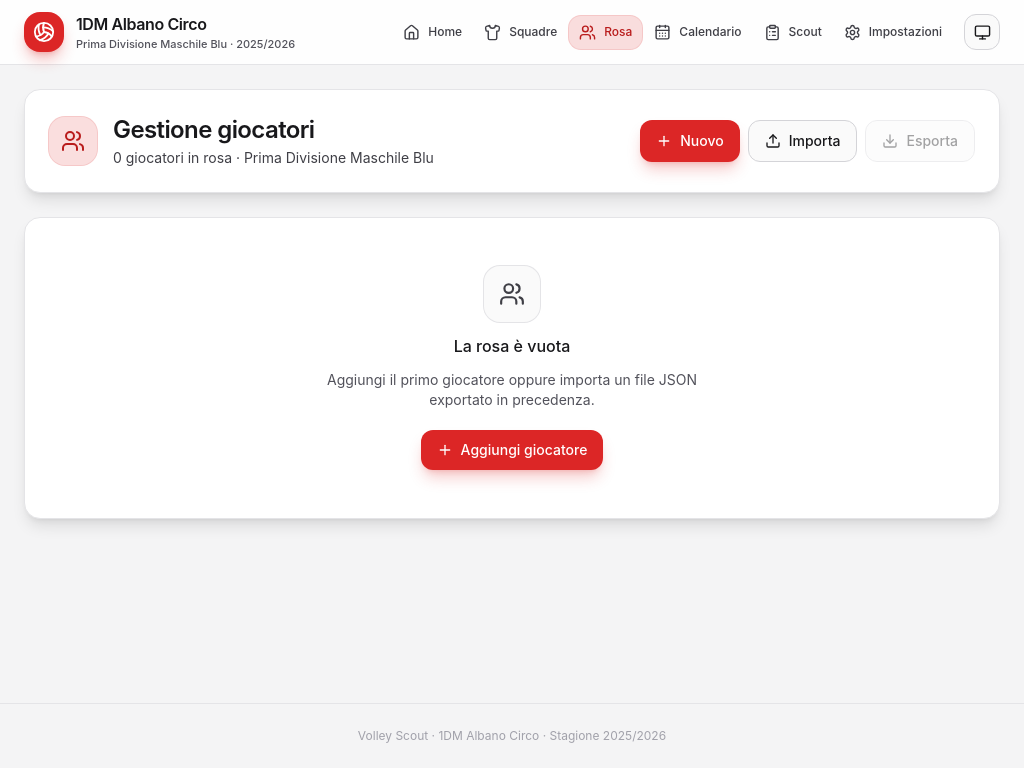
giocatori › mostra gli errori di validazione su campi obbligatori
Click the button "Nuovo" at (690, 141), box left=640, top=120, right=740, bottom=162
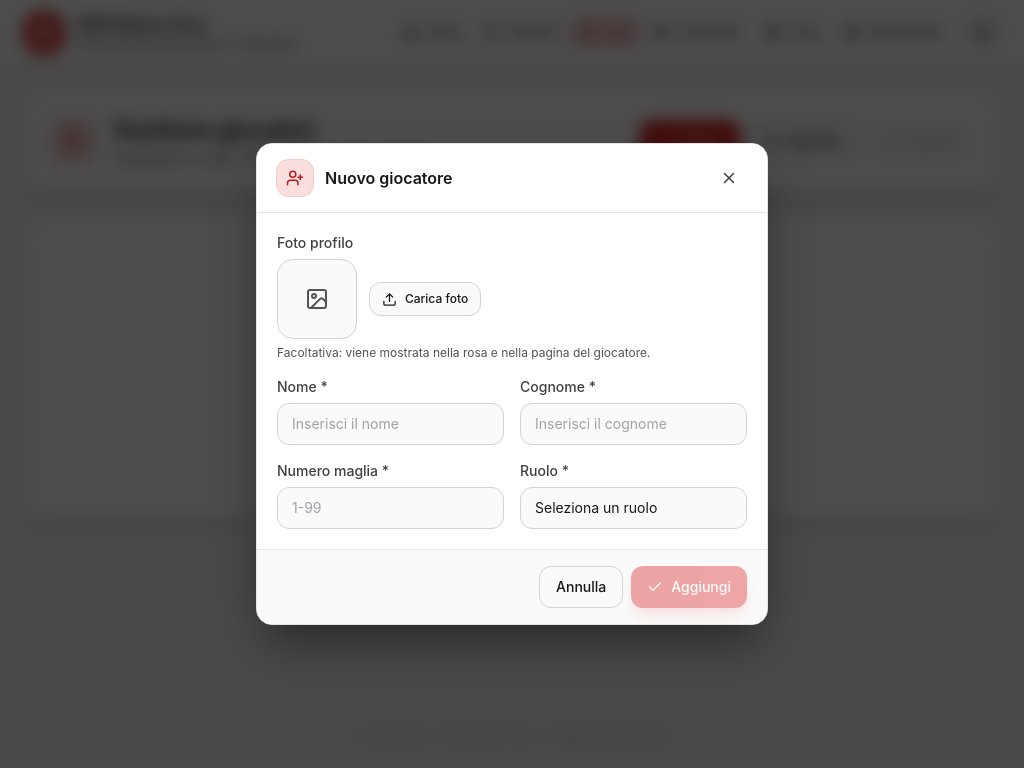
Type "m" into the field labelled "Nome *" at (390, 424), box left=277, top=403, right=504, bottom=445
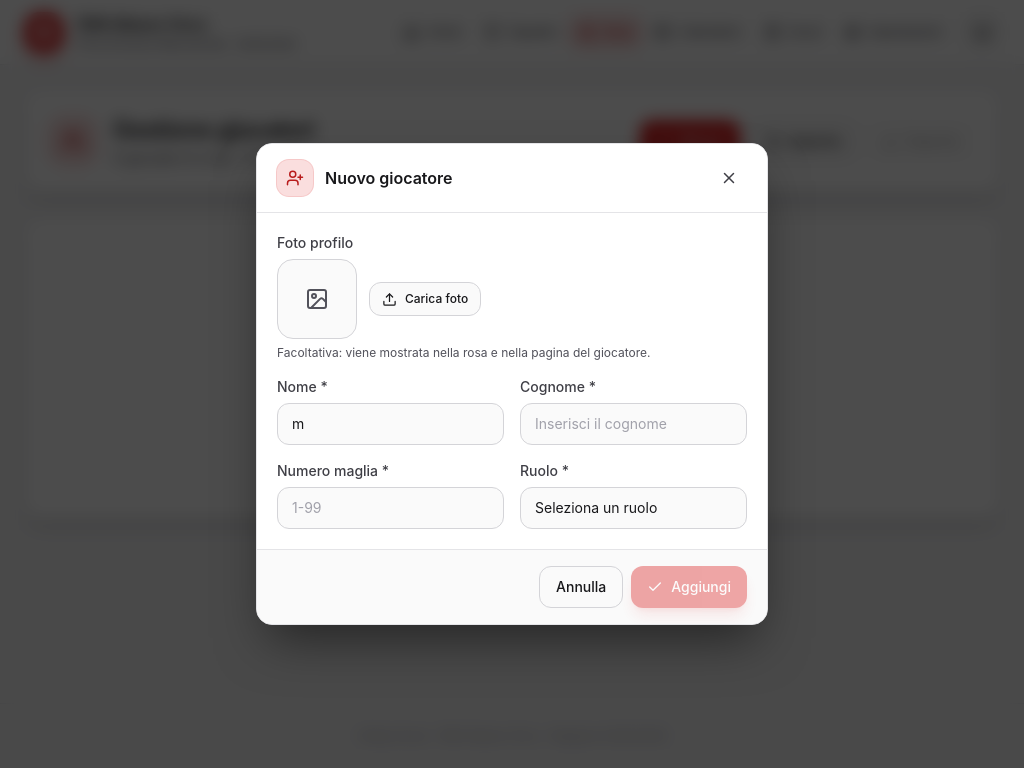
Leave the field labelled "Nome *", box left=277, top=403, right=504, bottom=445
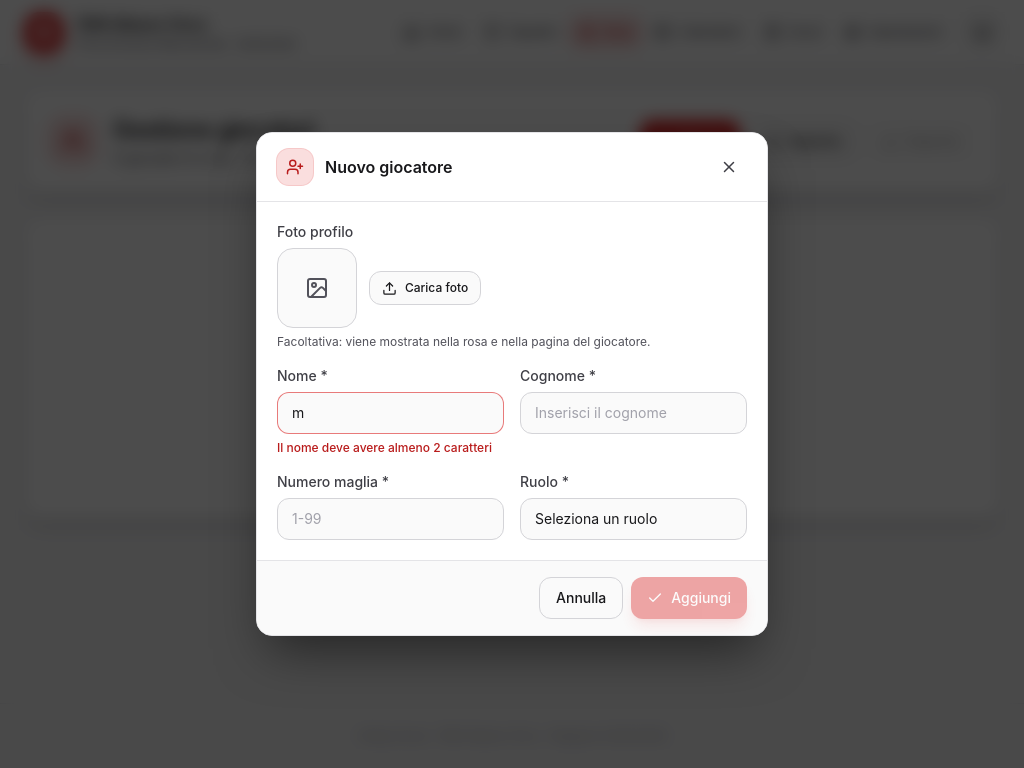
Expected: the button "Aggiungi" is disabled, left=631, top=577, right=747, bottom=619
Expected: the text "Il nome deve avere almeno 2 caratteri" is shown, left=277, top=440, right=504, bottom=456
